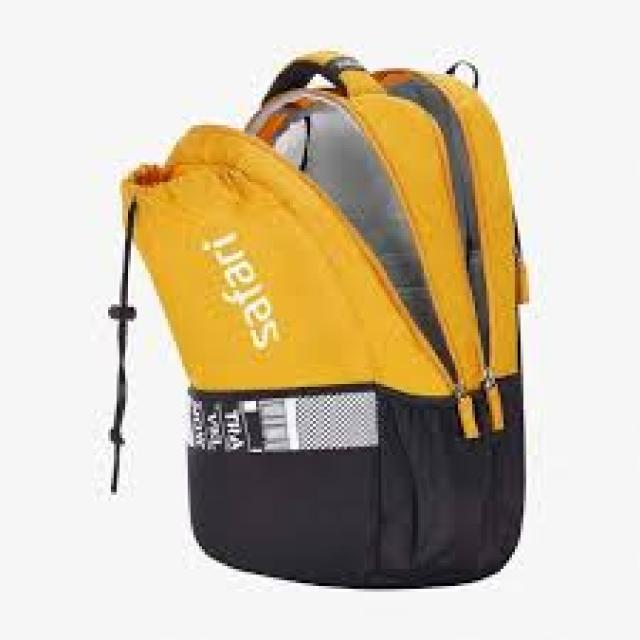backpack: (105, 48, 529, 589)
